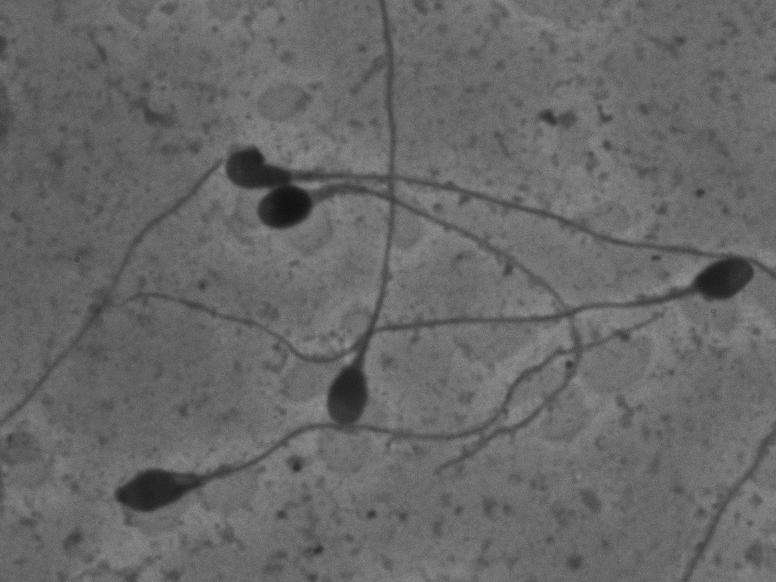Abnormal: (106, 306, 667, 523), (102, 241, 758, 372), (214, 132, 707, 267)
Normal: (248, 178, 591, 491), (315, 12, 403, 427)
